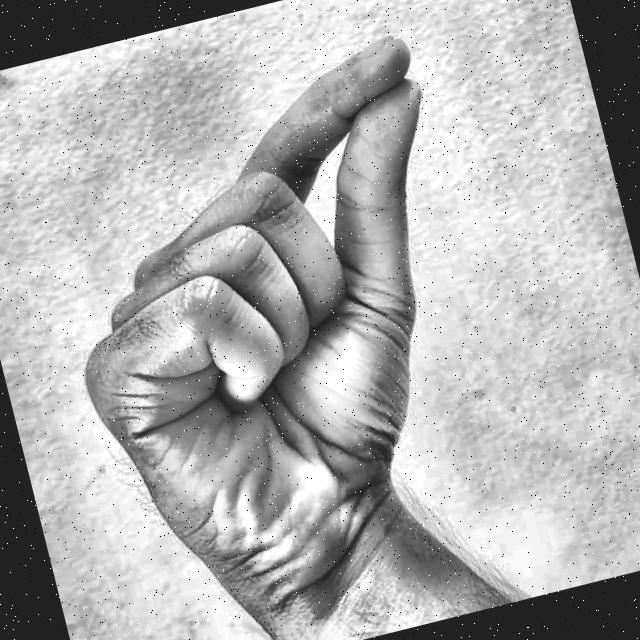Anusshar: (0, 1, 560, 640)
